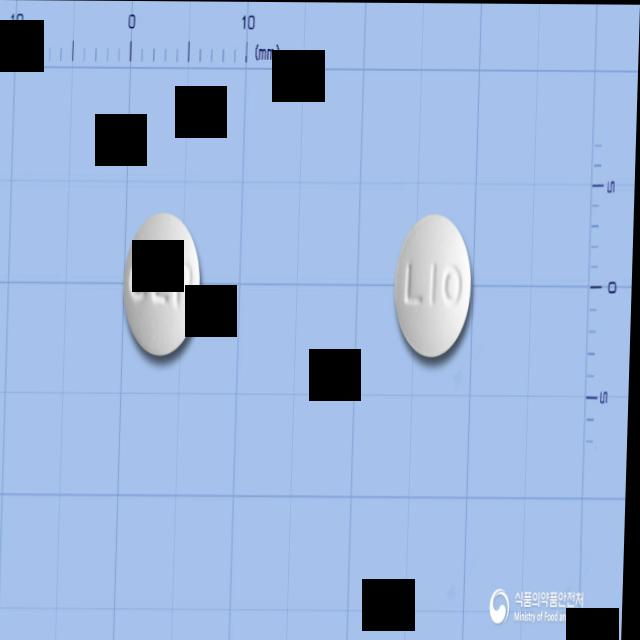Luarva - 20mg: (124, 209, 206, 357), (395, 213, 476, 360)
